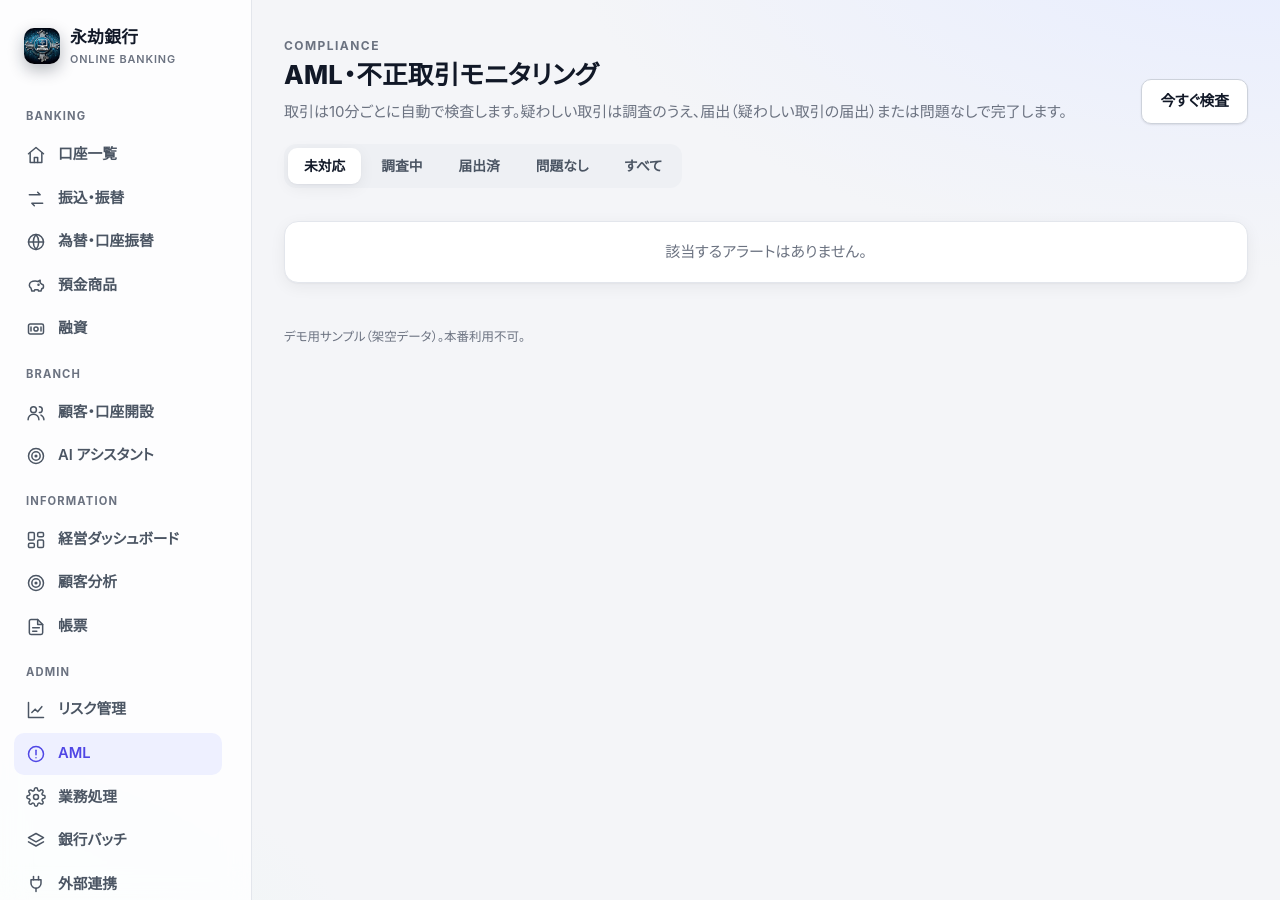
Test: AmlPage › 今すぐ検査の結果件数を表示し、失敗はエラーにする
The image size is (1280, 900).
Click the button "今すぐ検査". click: point(1195, 101)
box: 1141,79 -> 1248,124
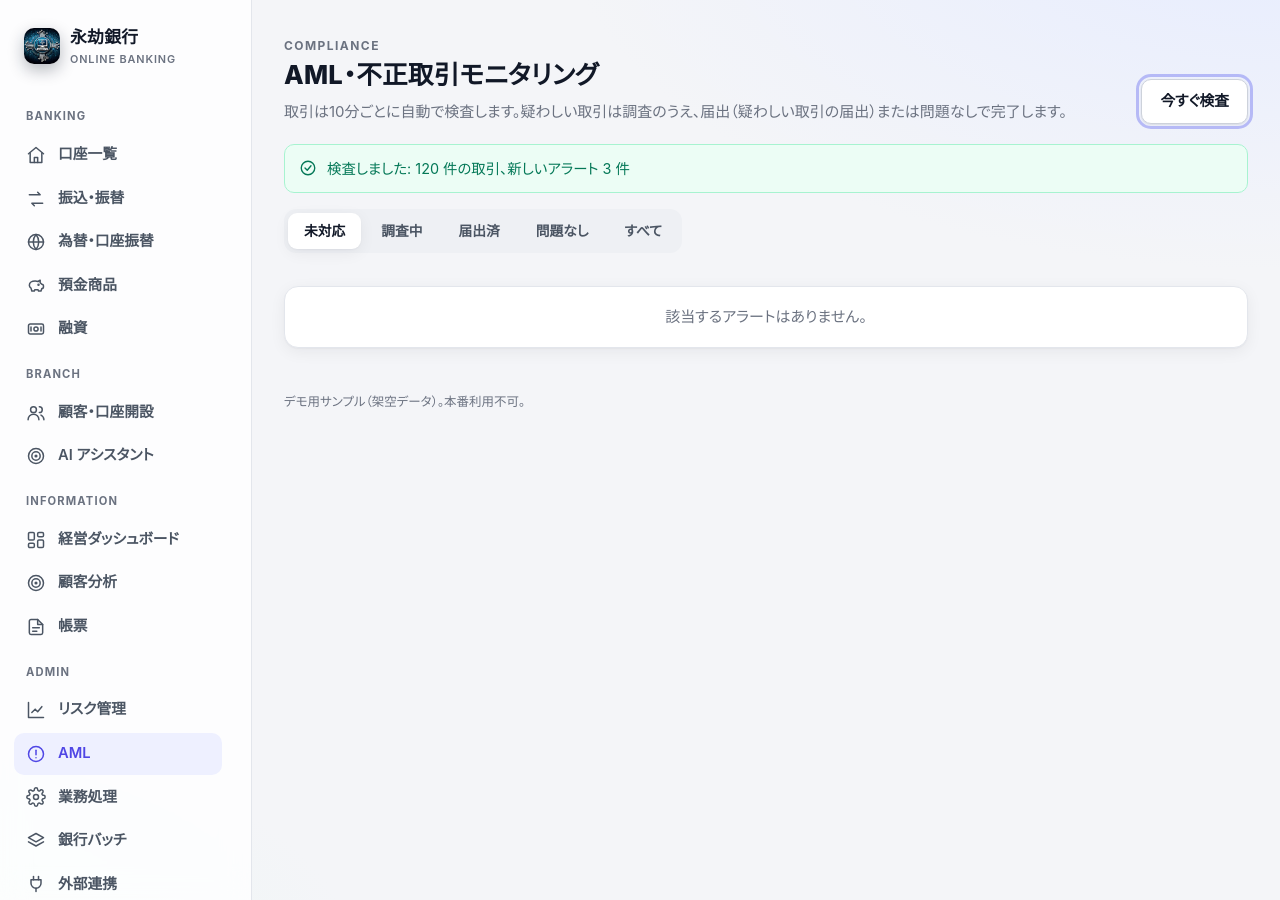
Expected: the text "検査しました: 120 件の取引、新しいアラート 3 件" is shown, 327,157 -> 630,180
Click the button "今すぐ検査". click: point(1195, 101)
box: 1141,79 -> 1248,124
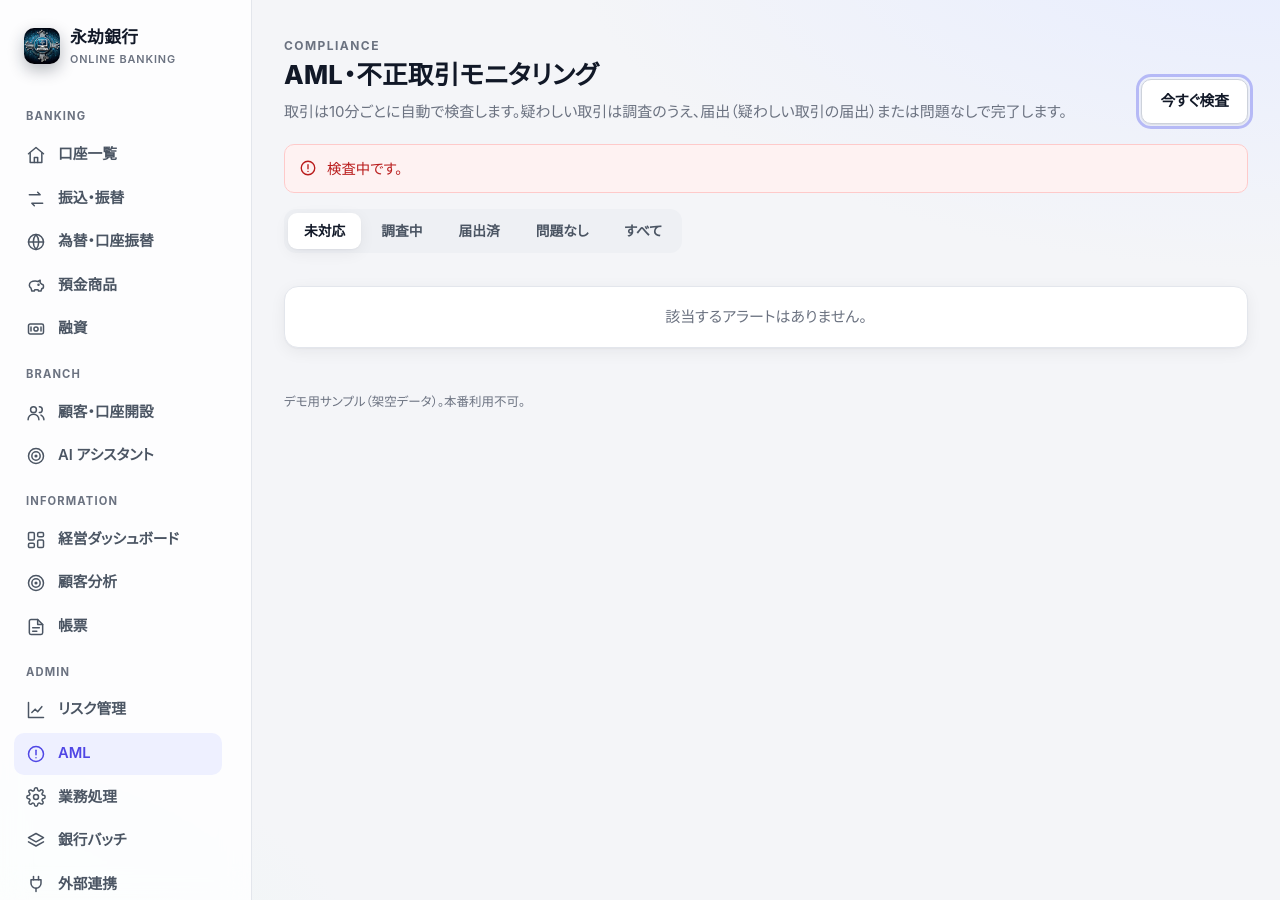
Expected: the message reads "検査中です。", 327,160 -> 402,177
